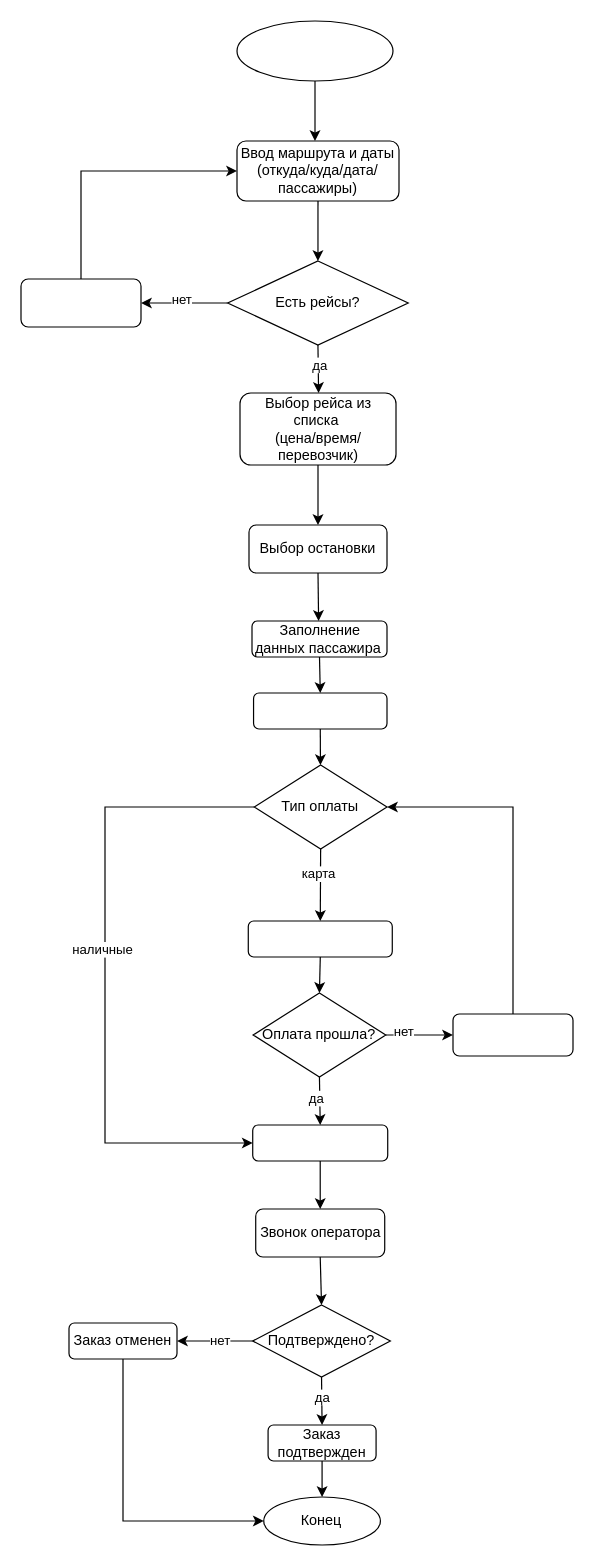
Some shapes in this 594 by 1566 pixel diagram are drawn without their labels. The shapes that lost their labels are listed below. From the top down, each one's centre as x and y in pixels, then its label:
the point at 314,50: Начало
the point at 80,302: Изменить параметры
the point at 319,710: Оплата
the point at 319,938: Ввод данных карты
the point at 512,1034: Ошибка оплаты
the point at 320,1142: Заявка оформлена
